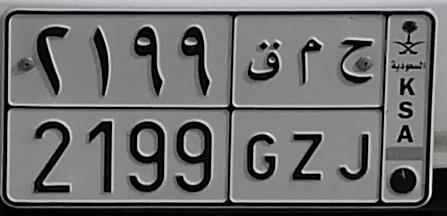1: (86, 25, 118, 195)
2: (31, 25, 73, 194)
9: (172, 23, 216, 194), (127, 21, 168, 193)
G: (244, 38, 282, 183)
J: (340, 38, 378, 186)
Z: (287, 36, 330, 182)
